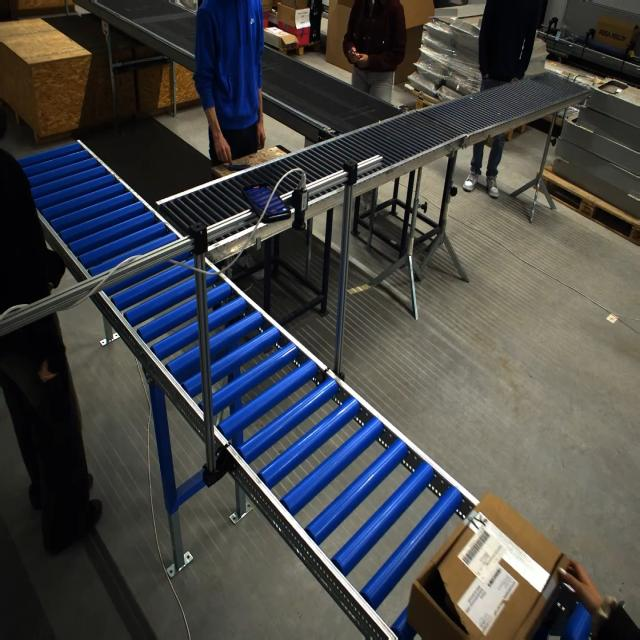box: (409, 491, 577, 637)
